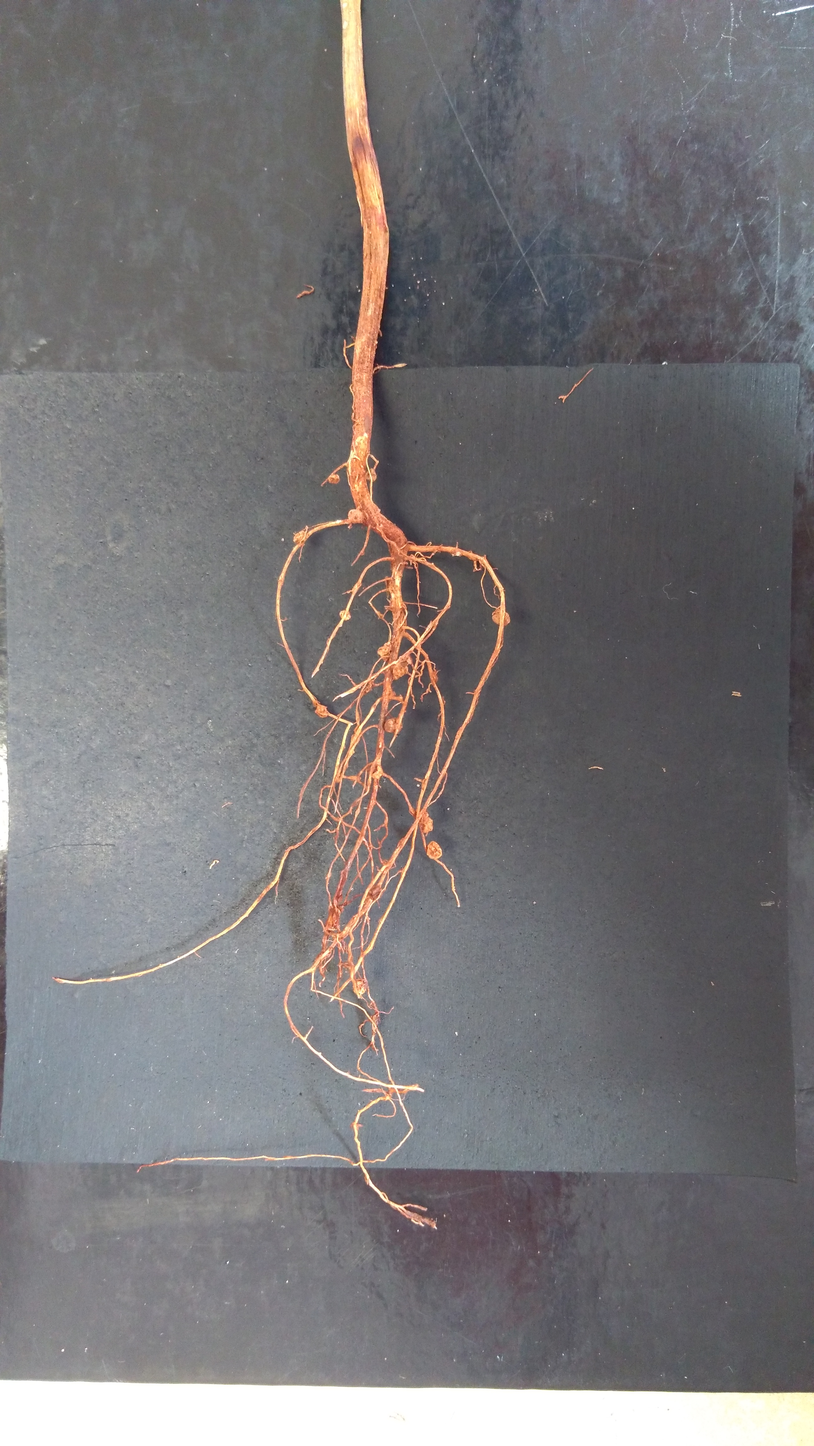nodule: (392, 654, 411, 680), (419, 812, 433, 834), (492, 609, 510, 626), (426, 841, 442, 859), (377, 642, 392, 661), (348, 509, 364, 524), (353, 978, 368, 994), (385, 718, 402, 732), (369, 884, 381, 900), (315, 704, 328, 718), (293, 531, 306, 544), (365, 468, 376, 482), (372, 765, 383, 779), (339, 610, 351, 620), (431, 670, 439, 685), (329, 474, 340, 484)
